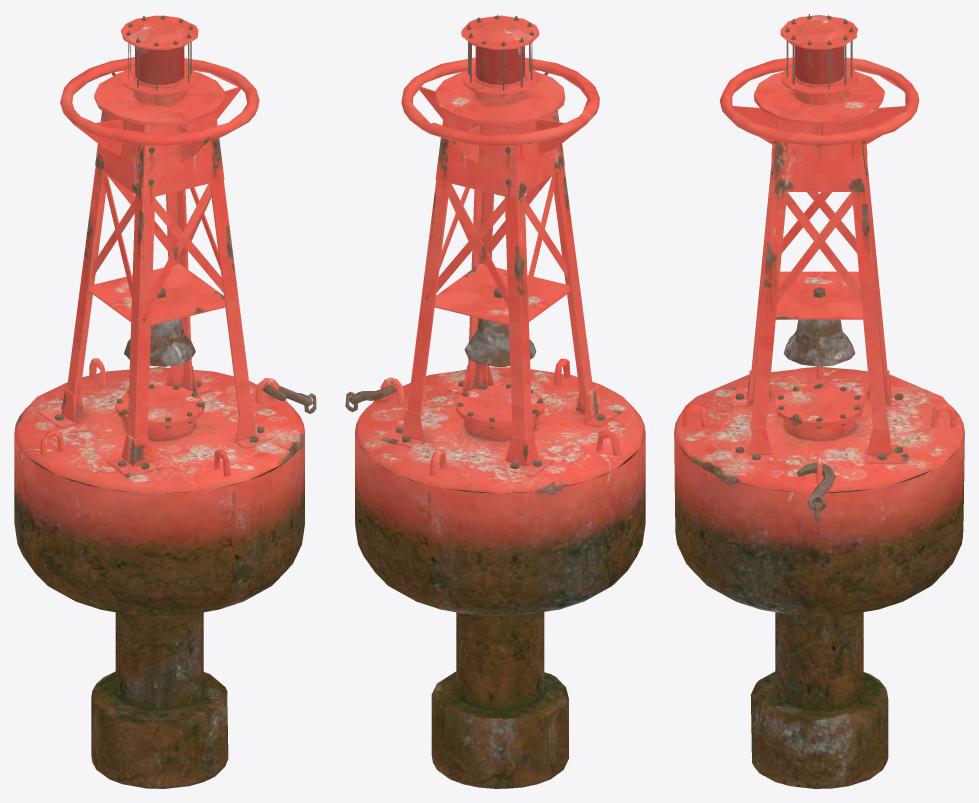
Rendered from buoy.glb.
The picture shows the model from 3 angles, left to right: view 1: azimuth 30°, elevation 25°; view 2: azimuth 150°, elevation 25°; view 3: azimuth 270°, elevation 25°; orthographic projection.
Visible parts, largest first — view 1: ocean_buoy; view 2: ocean_buoy; view 3: ocean_buoy.
Boxes of the visible parts, x1,y1,x2,y2 form: ocean_buoy: [14, 15, 316, 788]; ocean_buoy: [345, 14, 645, 788]; ocean_buoy: [674, 14, 964, 788].
Size of the model in its own units: 1.06 by 2.66 by 0.9521.
Materials: 1 (1 with a texture image).
